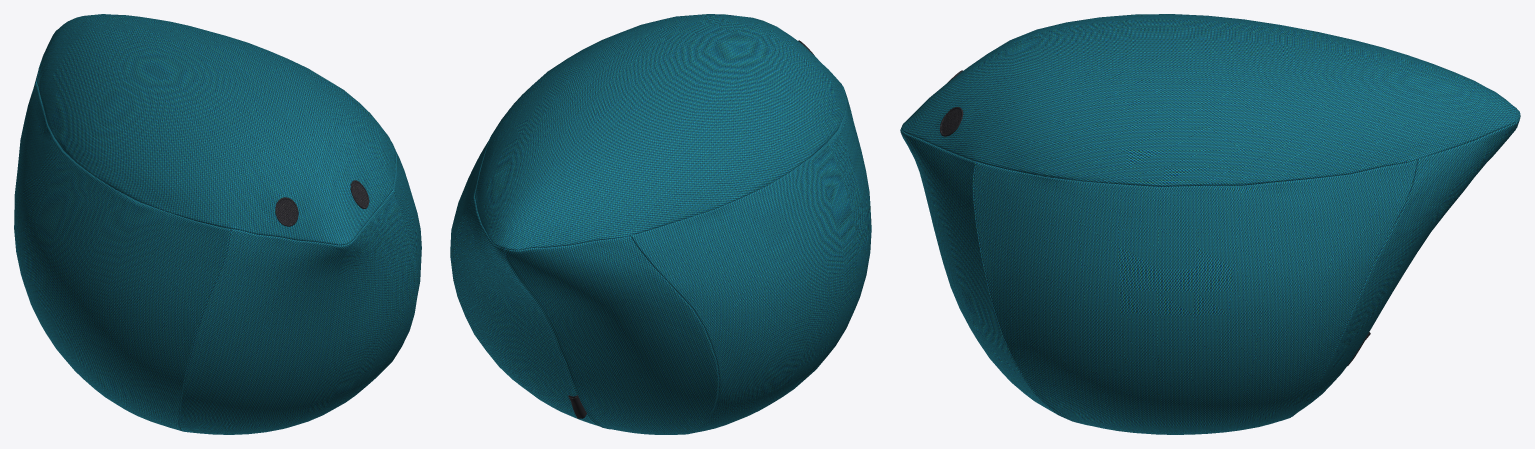
File: Hulsta_Birdy_Pouf_mat(4).fbx
The picture shows the model from 3 angles, left to right: view 1: azimuth 30°, elevation 25°; view 2: azimuth 150°, elevation 25°; view 3: azimuth 270°, elevation 25°; orthographic projection. The views are drawn at different scales.
Parts seen in each view (by area): view 1: Hulsta_Birdy_Pouf_mat4; view 2: Hulsta_Birdy_Pouf_mat4; view 3: Hulsta_Birdy_Pouf_mat4.
Part boxes in pixels (x1,y1,x2,y2): Hulsta_Birdy_Pouf_mat4: (14,14,421,434); Hulsta_Birdy_Pouf_mat4: (450,14,871,434); Hulsta_Birdy_Pouf_mat4: (900,14,1520,434).
Size of the model in its own units: 50.8 by 74.33 by 48.
